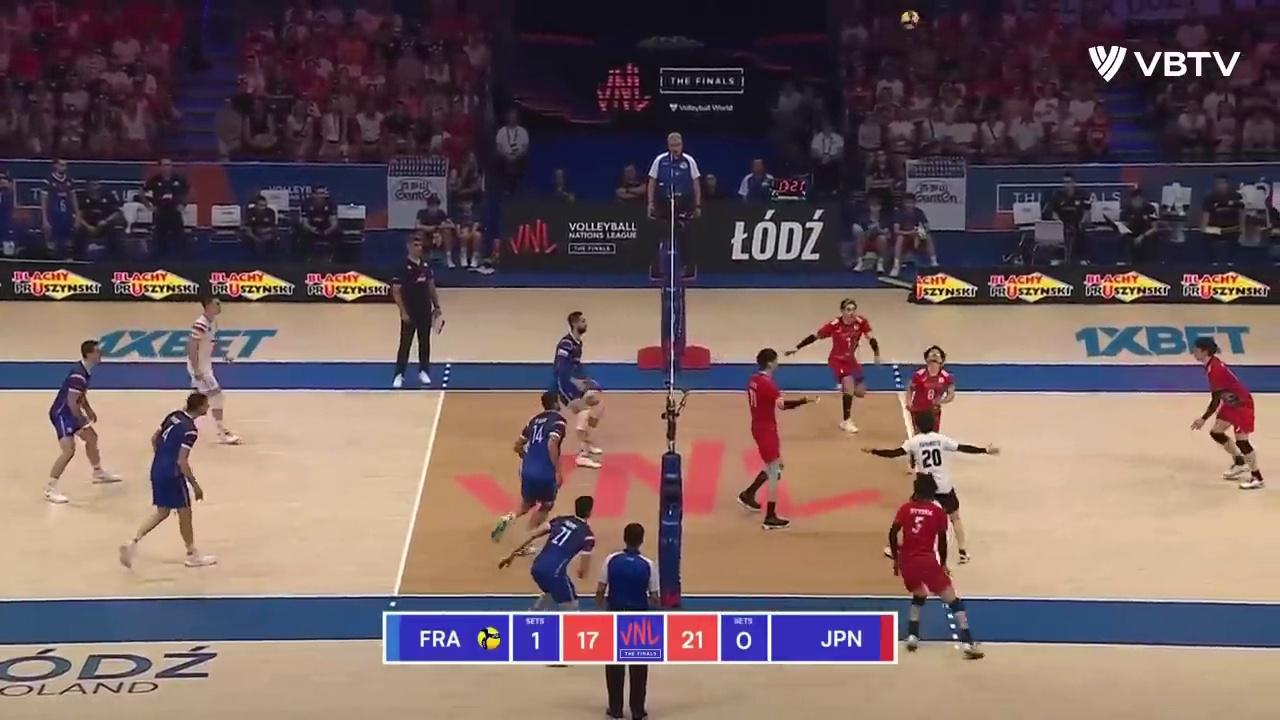ball: (900, 11, 918, 29)
